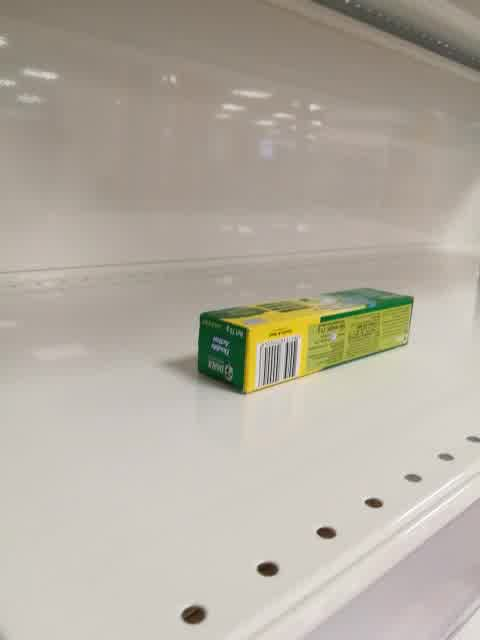toothpaste: (199, 289, 415, 394)
